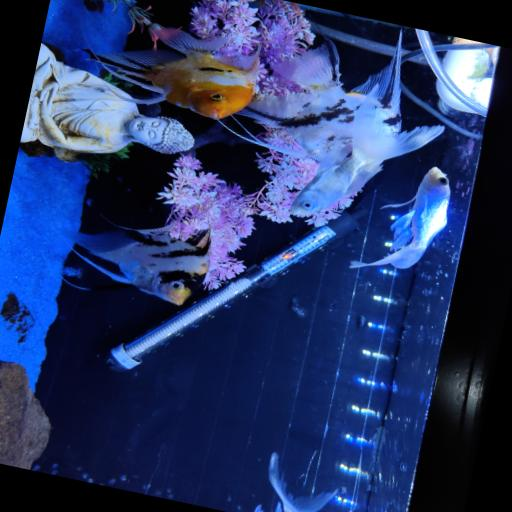Fish: (290, 33, 443, 215), (237, 38, 364, 161), (94, 23, 258, 118), (71, 228, 209, 304), (350, 167, 449, 268), (268, 452, 336, 511), (442, 47, 497, 107)
